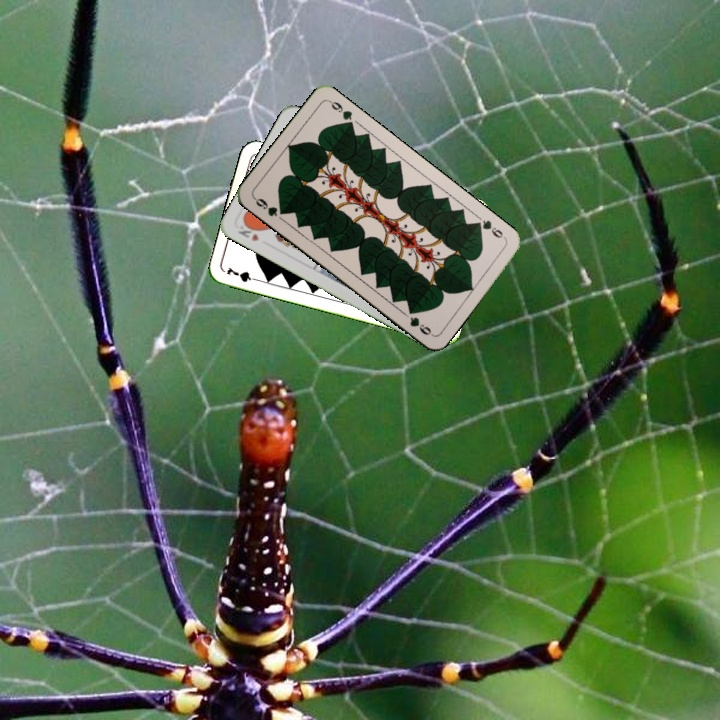G7: (222, 263, 262, 285)
G9: (470, 216, 509, 242), (250, 193, 288, 219)
HK: (234, 219, 263, 244)
